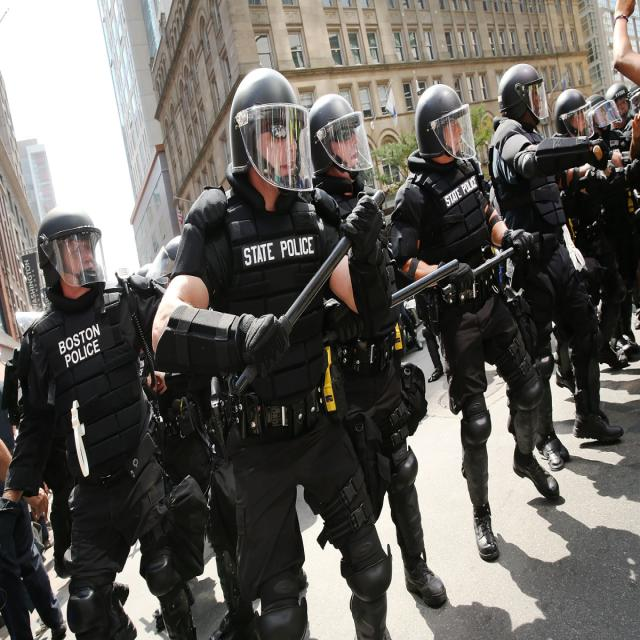police: (165, 73, 366, 640), (0, 192, 173, 640), (393, 72, 545, 553), (490, 58, 622, 493)
